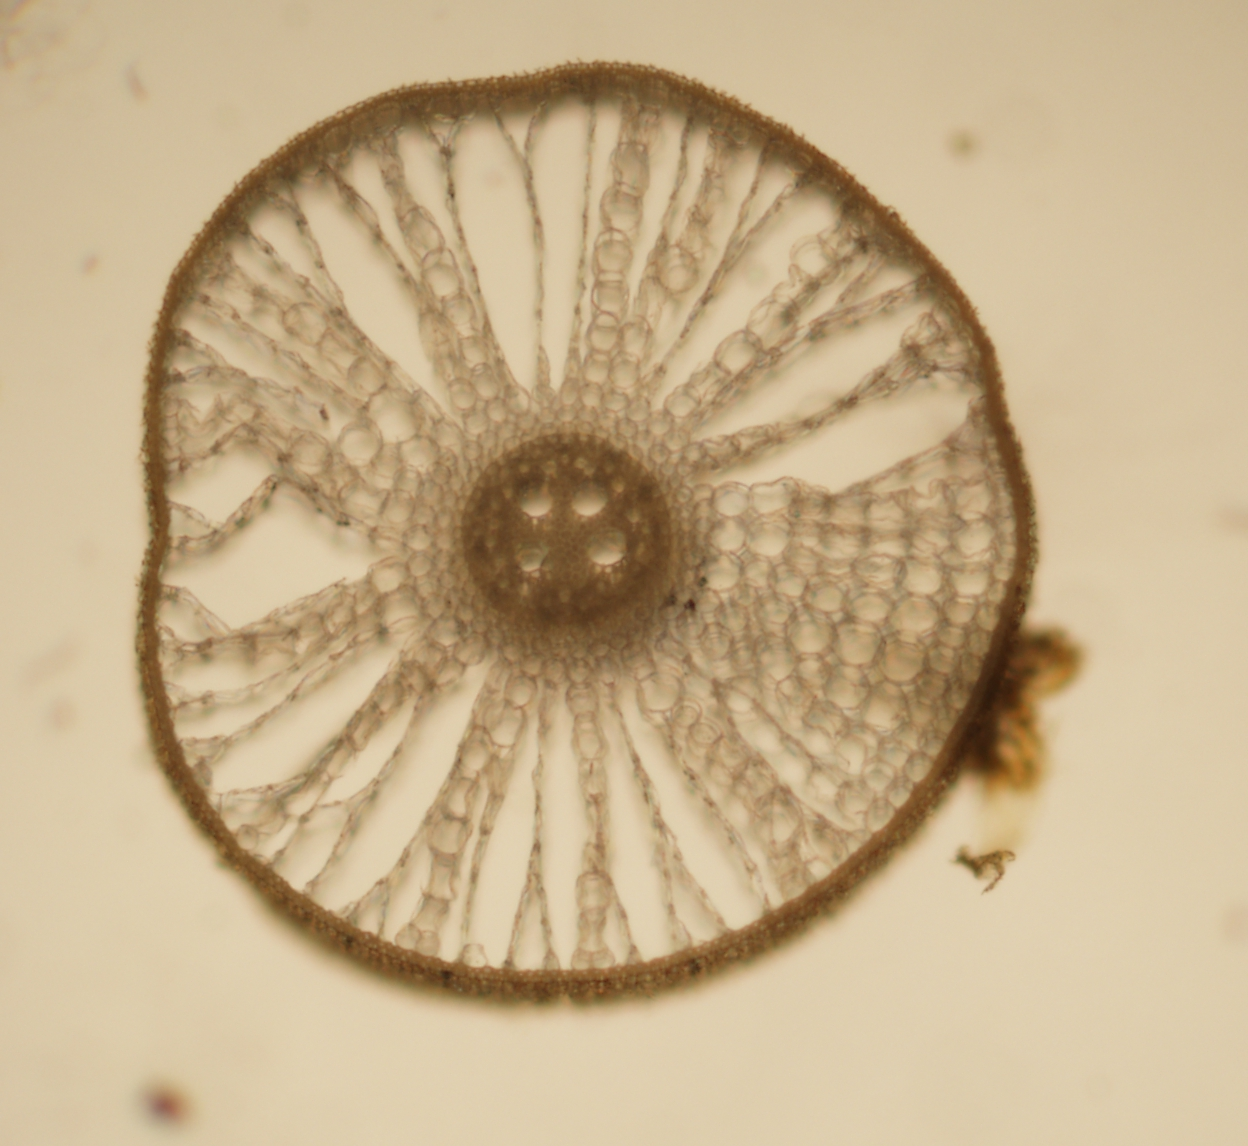lm: (586, 528, 628, 564), (571, 482, 607, 516), (520, 486, 554, 516), (515, 543, 549, 571)
